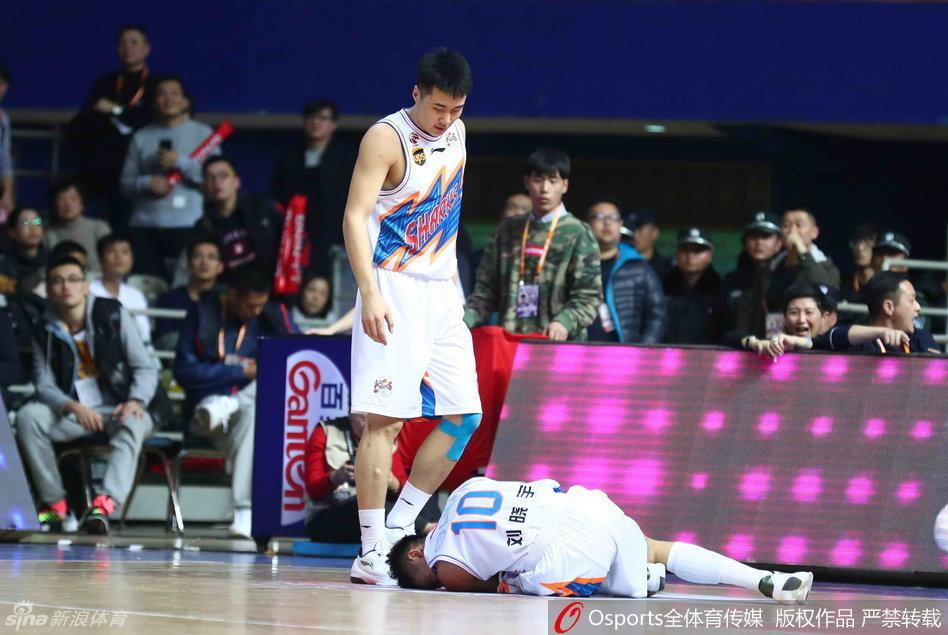bending: (2, 262, 163, 542)
down: (353, 466, 849, 610)
up: (344, 48, 500, 595)
